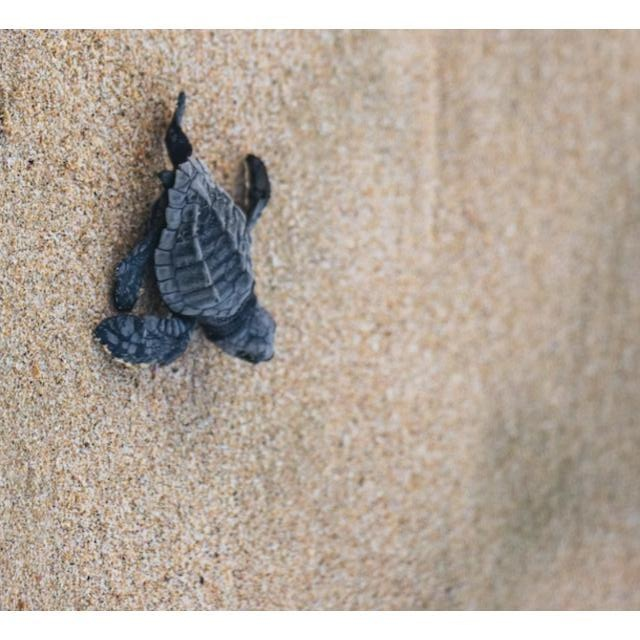turtle: (93, 92, 278, 368)
